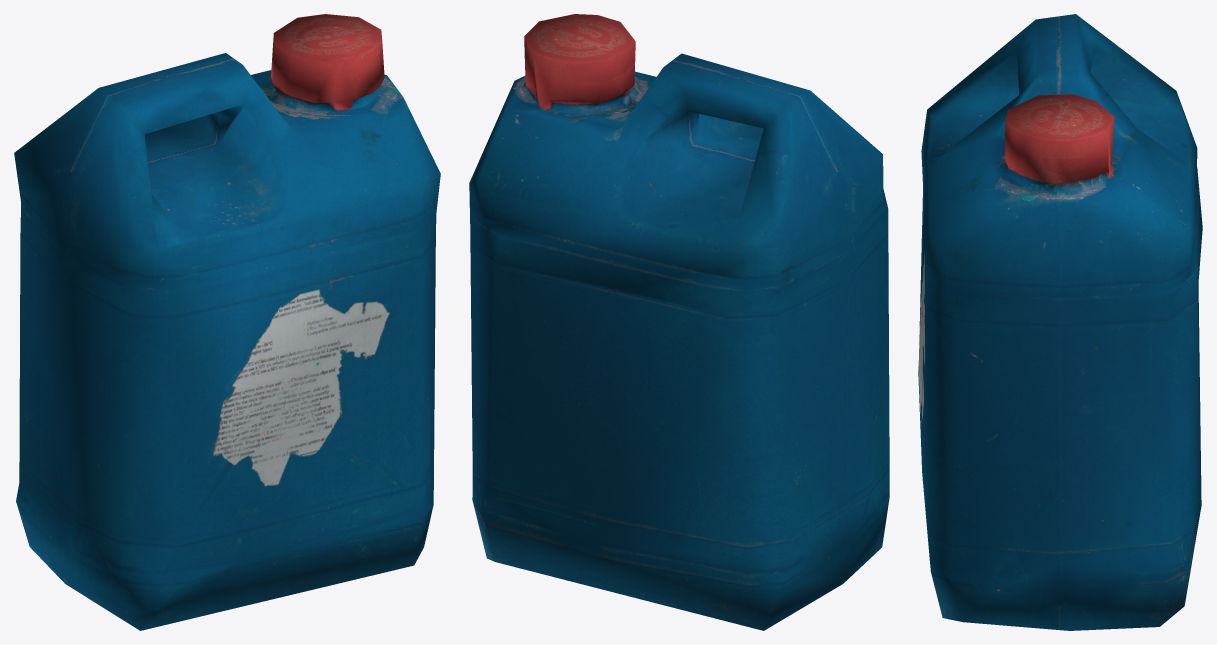
File: PlasticContainer01.fbx
3 views of the same model, side by side, from view 1: azimuth 30°, elevation 25°; view 2: azimuth 150°, elevation 25°; view 3: azimuth 270°, elevation 25° (orthographic).
Parts seen in each view (by area): view 1: PlasticContainer01; view 2: PlasticContainer01; view 3: PlasticContainer01.
Boxes of the visible parts, x1,y1,x2,y2 form: PlasticContainer01: (14,14,440,630); PlasticContainer01: (469,14,889,630); PlasticContainer01: (918,14,1202,630).
Size of the model in its own units: 0.2835 by 0.3977 by 0.2085.
